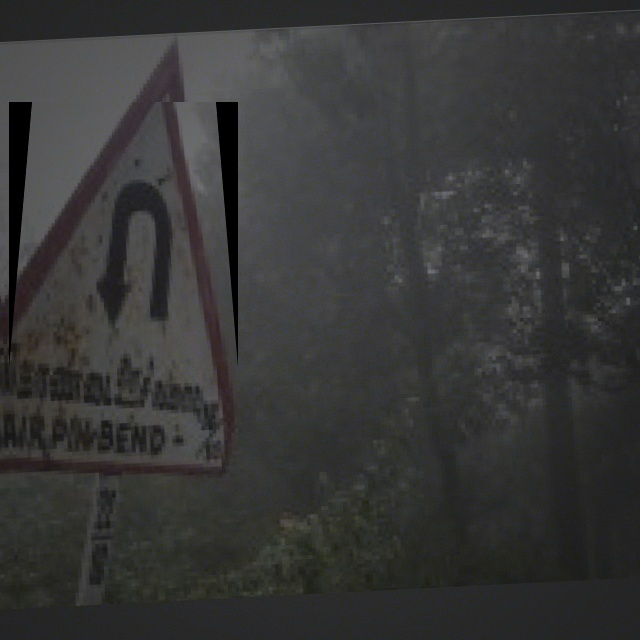Left_Hair_Pin_Bend: (9, 102, 238, 368)
